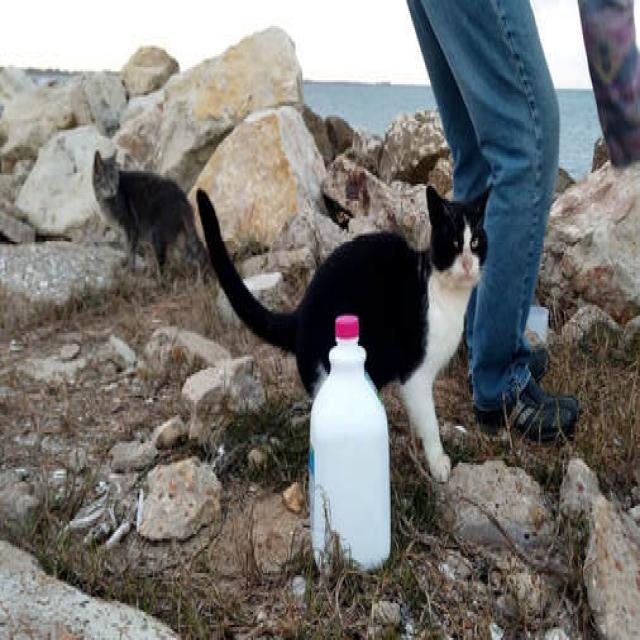cat: (198, 186, 488, 482), (92, 155, 209, 275)
